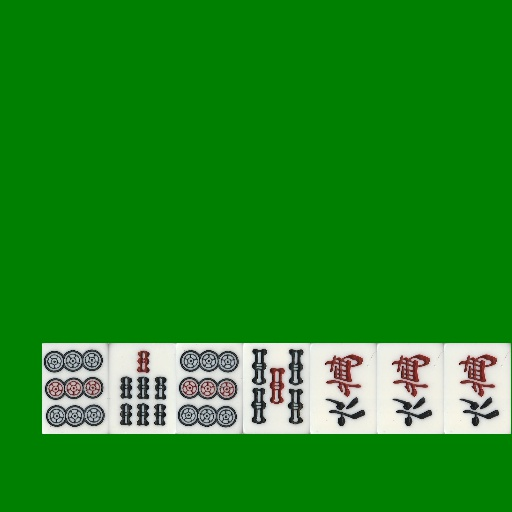5s: (243, 343, 310, 434)
6m: (310, 343, 377, 434), (377, 343, 444, 434), (444, 343, 511, 434)
7s: (109, 343, 176, 434)
9p: (42, 343, 109, 434), (176, 343, 243, 434)
